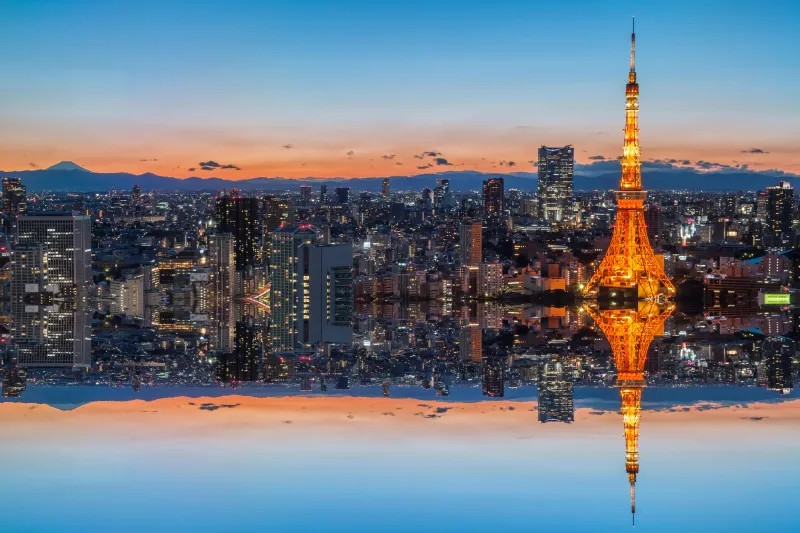Tokyo: (580, 15, 677, 301)
